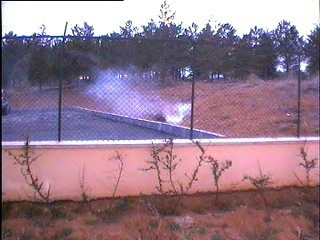smoke: (89, 65, 192, 127)
